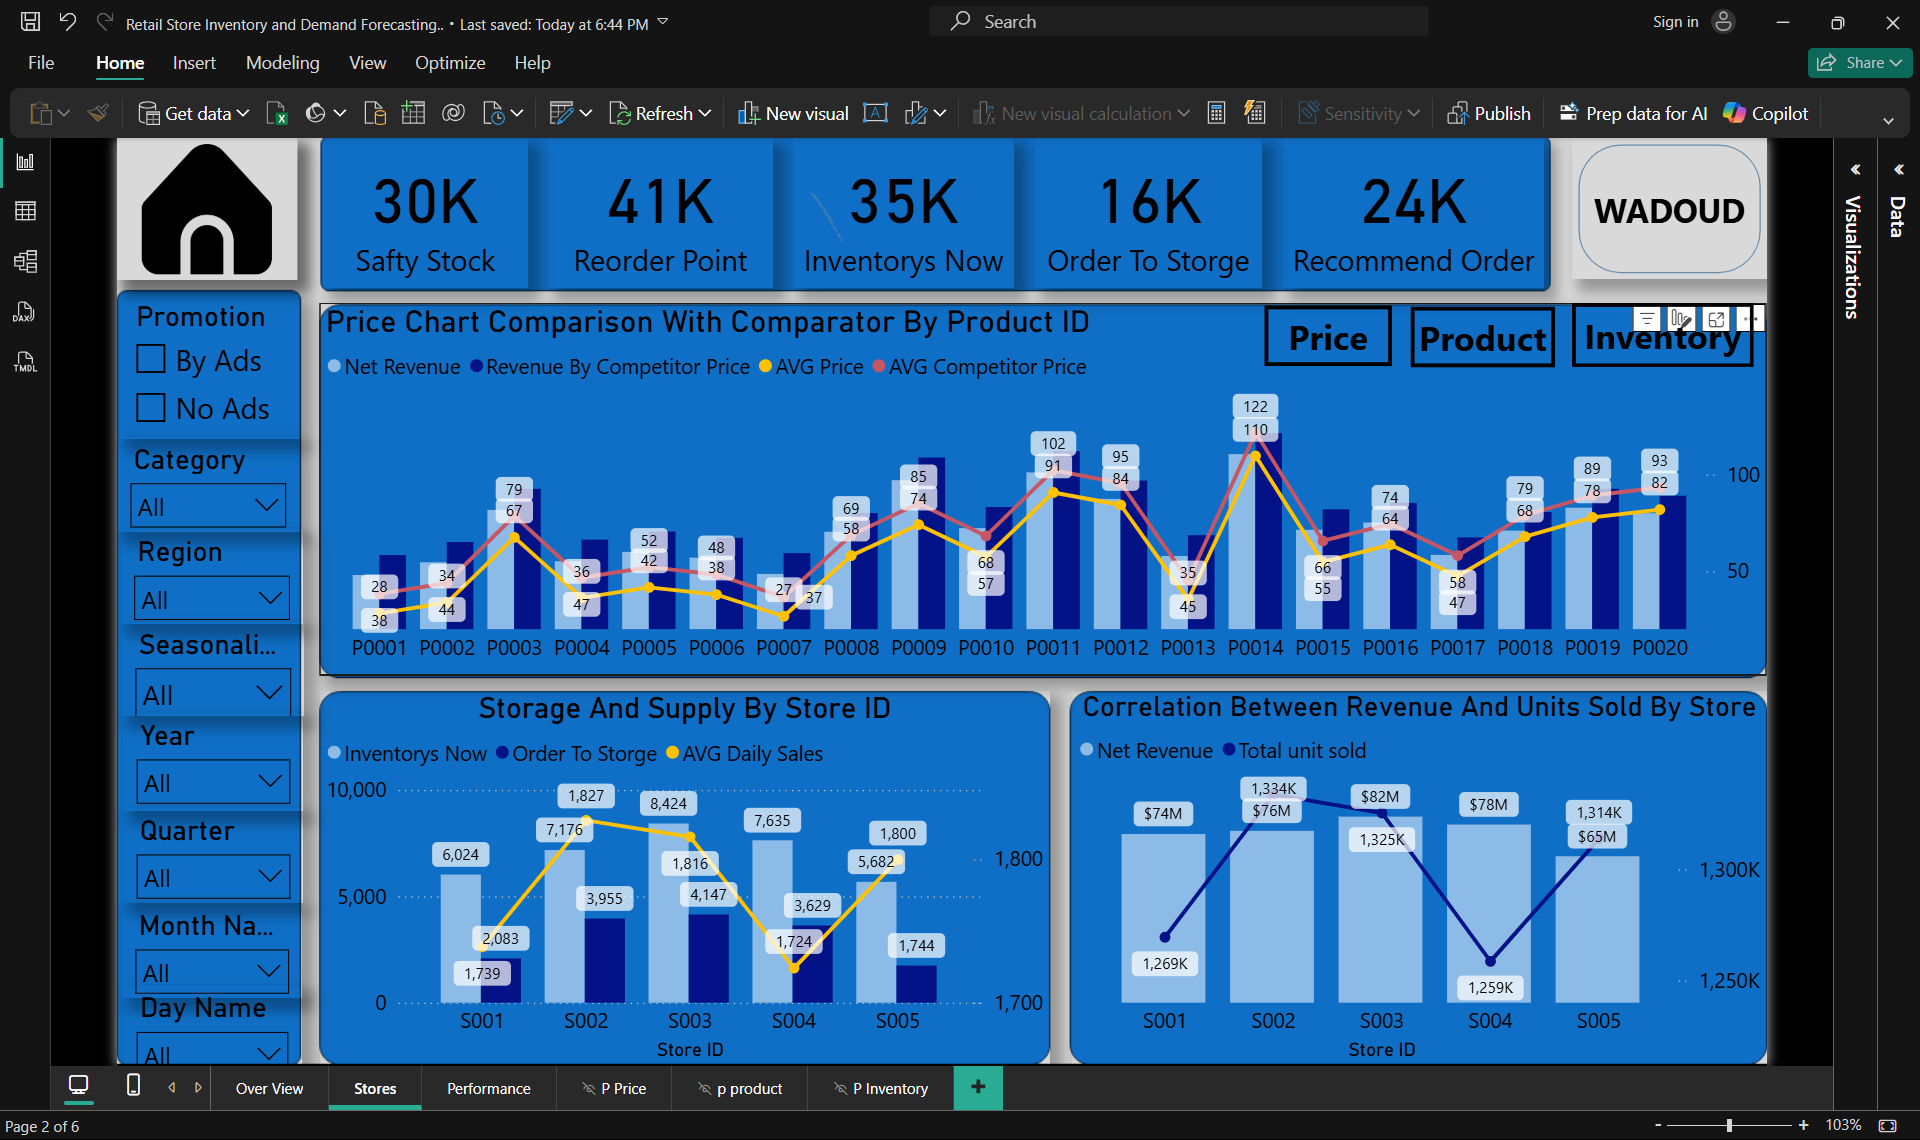

Layout of this report page (visuals, bound fields, positions):
{"tool":"powerbi","page":{"name":"Stores ","canvas":[1280,720],"ordinal":1},"visuals":[{"type":"shape","box":[1128.3,0,151.4,110.1],"z":0,"group":"g4"},{"type":"actionButton","box":[1128,127.8,141,49.9],"z":0,"group":"g2"},{"type":"lineClusteredColumnComboChart","title":"  Inventory Chart by Product ID            .    .","fields":{"Category":["sales_data.Product_ID"],"Y":["sales_data.Inventory","sales_data.Safty Stock"],"Y2":["sales_data.Daily Sales AVG","sales_data.AVG Daliy Demand"]},"box":[157,128,1122.3,290.1],"z":0,"group":"g1"},{"type":"slicer","fields":{"Values":["sales_data.Category"]},"box":[0,231.3,141.3,73.8],"z":0},{"type":"shape","box":[1128.3,0,151.4,110.1],"z":1000,"group":"g4"},{"type":"actionButton","box":[1003,130.7,111.9,47],"z":1000,"group":"g2"},{"type":"slicer","fields":{"Values":["Calender table.Year"]},"box":[4.8,445.8,139.3,75.9],"z":1000},{"type":"image","box":[11.3,353.6,130.4,112.5],"z":1500,"group":"g3"},{"type":"shape","box":[1127.8,0,151.4,109.9],"z":2000,"group":"g4"},{"type":"actionButton","box":[889.6,129.5,98.8,47],"z":2000,"group":"g2"},{"type":"image","box":[0,232.3,141,120.2],"z":2000,"group":"g3"},{"type":"slicer","fields":{"Values":["sales_data.Region"]},"box":[3.3,303,141.3,73.8],"z":2000},{"type":"image","box":[0,113.4,141,118.9],"z":3000,"group":"g3"},{"type":"slicer","fields":{"Values":["Calender table.Month Name"]},"box":[4.2,593.4,139.3,73.8],"z":3000},{"type":"slicer","fields":{"Values":["sales_data.Seasonality"]},"box":[3.5,374.7,141,73.1],"z":4000},{"type":"slicer","fields":{"Values":["Calender table.Day Name"]},"box":[5.2,656.8,138.1,63.2],"z":5000},{"type":"slicer","fields":{"Values":["sales_data.Promotion"]},"box":[2.1,121.6,140.3,112.2],"z":6000},{"type":"slicer","fields":{"Values":["Calender table.Quarter"]},"box":[5.2,519.6,139.3,73.8],"z":7000},{"type":"card","fields":{"Values":["sales_data.Safty Stock"]},"box":[160.2,0.2,158.7,116.2],"z":8000},{"type":"card","fields":{"Values":["sales_data.Ordered To Storge"]},"box":[711.4,0.3,177.2,116.2],"z":9000},{"type":"card","fields":{"Values":["sales_data.Inventorys Now"]},"box":[524.4,0.3,171.5,116.2],"z":18000},{"type":"group","id":"g1","title":"Product Graf","box":[157,128,1122.4,290.1],"z":19000},{"type":"lineClusteredColumnComboChart","title":"Storage And Supply By Store ID","fields":{"Category":["sales_data.Store_ID"],"Y":["sales_data.Total Inventorys","sales_data.Ordered To Storge"],"Y2":["sales_data.AVG Daily Unit Sales"]},"box":[157,428.1,566.2,292.1],"z":20000},{"type":"group","id":"g2","title":"G prouduct","box":[889.6,127.8,379.3,49.9],"z":21000},{"type":"card","fields":{"Values":["sales_data.Recommended Order"]},"box":[904.2,0,202.7,116.4],"z":22000},{"type":"card","fields":{"Values":["sales_data.Rorder Point"]},"box":[334.5,0.3,174.3,116.2],"z":23000},{"type":"lineClusteredColumnComboChart","title":"Correlation Between Revenue  And Units Sold By Store","fields":{"Category":["sales_data.Store_ID"],"Y":["sales_data.Total Sales After Discount"],"Y2":["sales_data.Total unit sold"]},"box":[740.2,428.1,539.2,292.1],"z":24000},{"type":"group","id":"g3","title":"Group 1","box":[0,113.4,141.7,381.3],"z":26000},{"type":"image","box":[0,0,139.6,110.5],"z":27000},{"type":"group","id":"g4","title":"Wadoud G","box":[1127.8,0,151.9,110.1],"z":28000}]}

Visuals, with their boxes on the page's 1280x720 design canvas (x1, y1, x2, y2). These are canvas units, not pixel positions in the 1920x1140 screenshot, which may show the page scaled, cropped or inside an application window:
shape: (1128,0,1280,110)
actionButton: (1128,128,1269,178)
"  Inventory Chart by Product ID            .    ." lineClusteredColumnComboChart: (157,128,1279,418)
slicer - sales_data.Category: (0,231,141,305)
shape: (1128,0,1280,110)
actionButton: (1003,131,1115,178)
slicer - Calender table.Year: (5,446,144,522)
image: (11,354,142,466)
shape: (1128,0,1279,110)
actionButton: (890,130,988,176)
image: (0,232,141,352)
slicer - sales_data.Region: (3,303,145,377)
image: (0,113,141,232)
slicer - Calender table.Month Name: (4,593,144,667)
slicer - sales_data.Seasonality: (4,375,144,448)
slicer - Calender table.Day Name: (5,657,143,720)
slicer - sales_data.Promotion: (2,122,142,234)
slicer - Calender table.Quarter: (5,520,144,593)
card - sales_data.Safty Stock: (160,0,319,116)
card - sales_data.Ordered To Storge: (711,0,889,116)
card - sales_data.Inventorys Now: (524,0,696,116)
"Product Graf" group: (157,128,1279,418)
"Storage And Supply By Store ID" lineClusteredColumnComboChart: (157,428,723,720)
"G prouduct" group: (890,128,1269,178)
card - sales_data.Recommended Order: (904,0,1107,116)
card - sales_data.Rorder Point: (334,0,509,116)
"Correlation Between Revenue  And Units Sold By Store" lineClusteredColumnComboChart: (740,428,1279,720)
"Group 1" group: (0,113,142,495)
image: (0,0,140,110)
"Wadoud G" group: (1128,0,1280,110)
